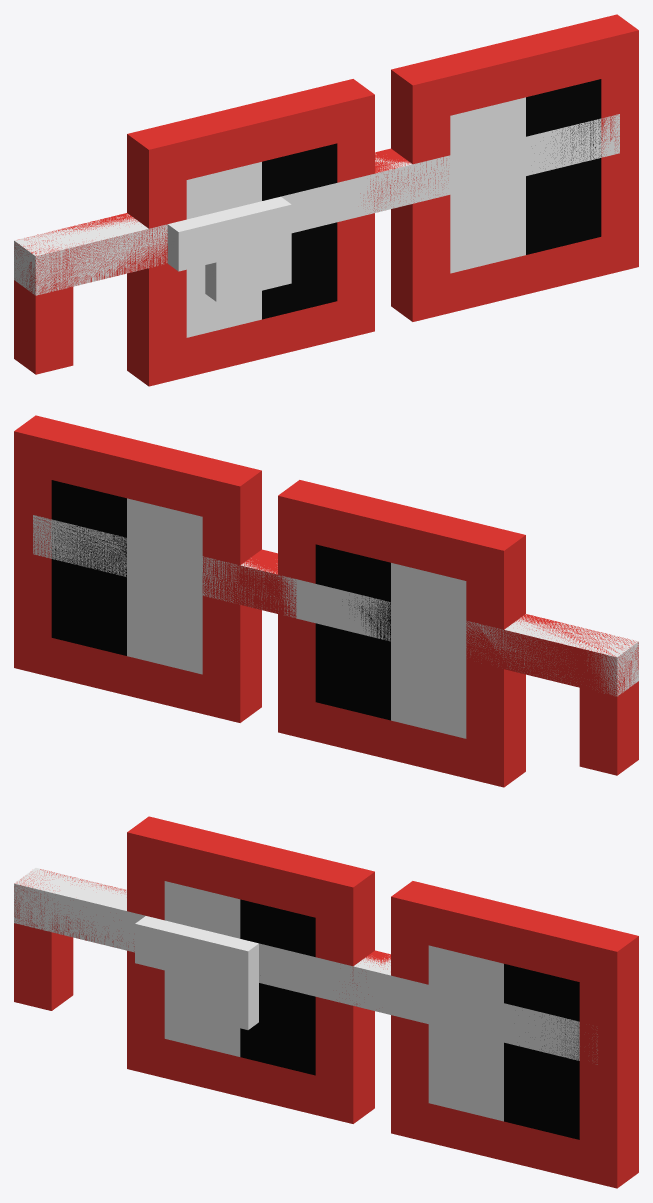
Rendered from hanger.glb.
The picture shows the model from 3 angles, top to bottom: view 1: azimuth 30°, elevation 25°; view 2: azimuth 150°, elevation 25°; view 3: azimuth 330°, elevation 25°; orthographic projection.
Parts seen in each view (by area): view 1: monture, glass (1), Base, u, t, e, q, w; view 2: monture, glass (1), Base, t, q; view 3: monture, glass (1), Base, u, e, w.
Boxes of the visible parts, <box> form: monture: <box>14,14,638,386</box>; glass (1): <box>186,79,601,337</box>; Base: <box>14,118,601,295</box>; u: <box>167,198,291,301</box>; t: <box>286,114,619,217</box>; e: <box>206,197,291,262</box>; q: <box>283,178,356,233</box>; w: <box>244,196,291,252</box>; monture: <box>14,415,638,787</box>; glass (1): <box>51,480,466,738</box>; Base: <box>51,519,638,696</box>; t: <box>33,515,446,653</box>; q: <box>296,579,447,652</box>; monture: <box>14,816,638,1188</box>; glass (1): <box>164,881,579,1139</box>; Base: <box>14,868,579,1060</box>; u: <box>135,916,258,1029</box>; e: <box>172,925,258,989</box>; w: <box>210,942,258,990</box>.
Size of the model in its own units: 16 by 6 by 1.5.
Materials: 5 (5 with a texture image).
